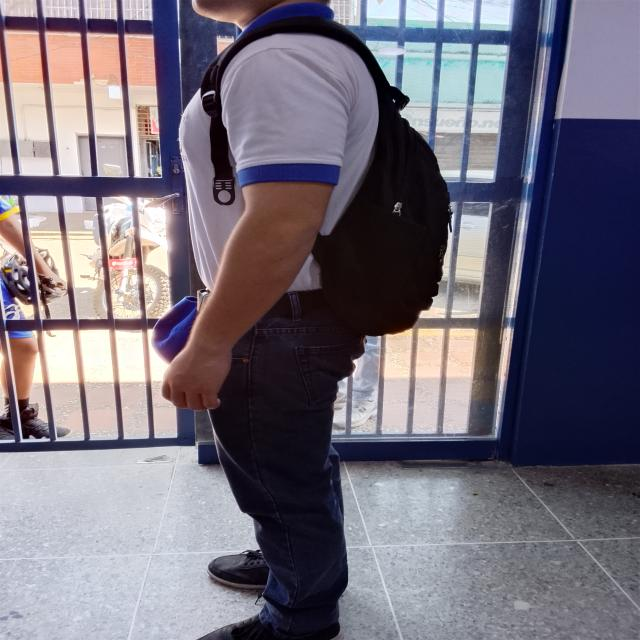pantalon_oscuro: (210, 317, 368, 632)
uniforme_superior: (178, 1, 380, 292)
